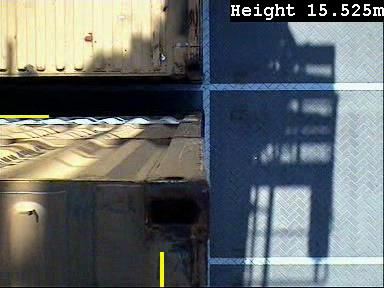groundmarker_2: (201, 58, 250, 124)
